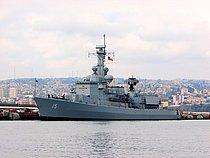MIL_Ship: (32, 38, 185, 122)
